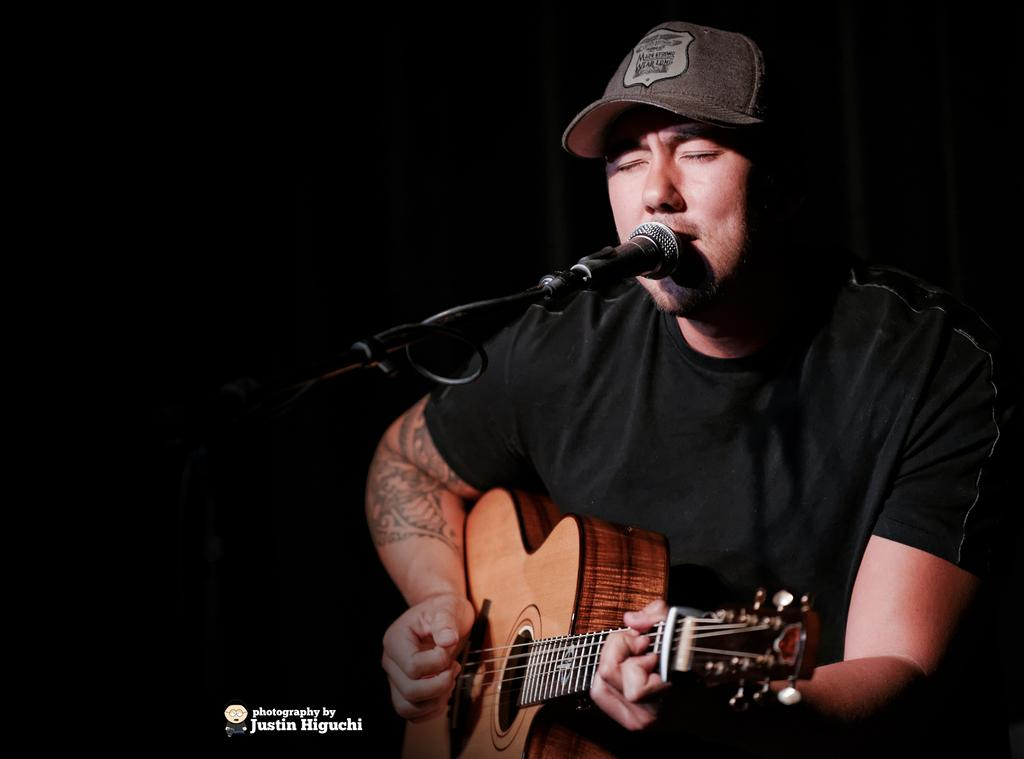Hat: (556, 15, 832, 163)
